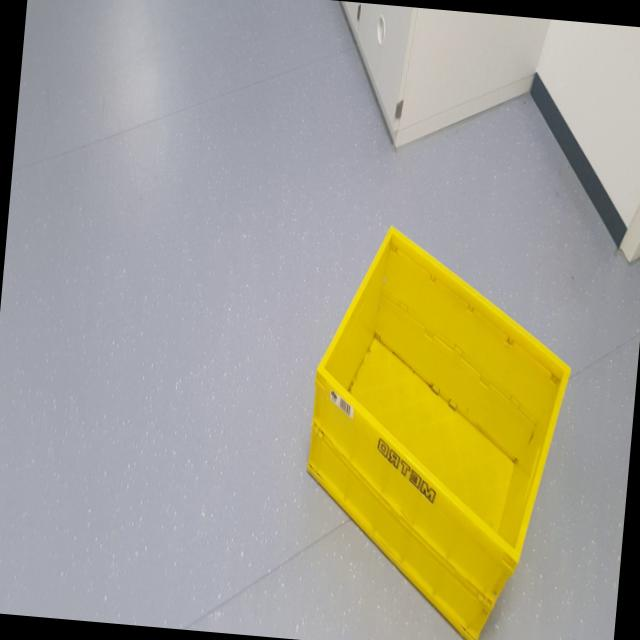box: (282, 202, 592, 640)
